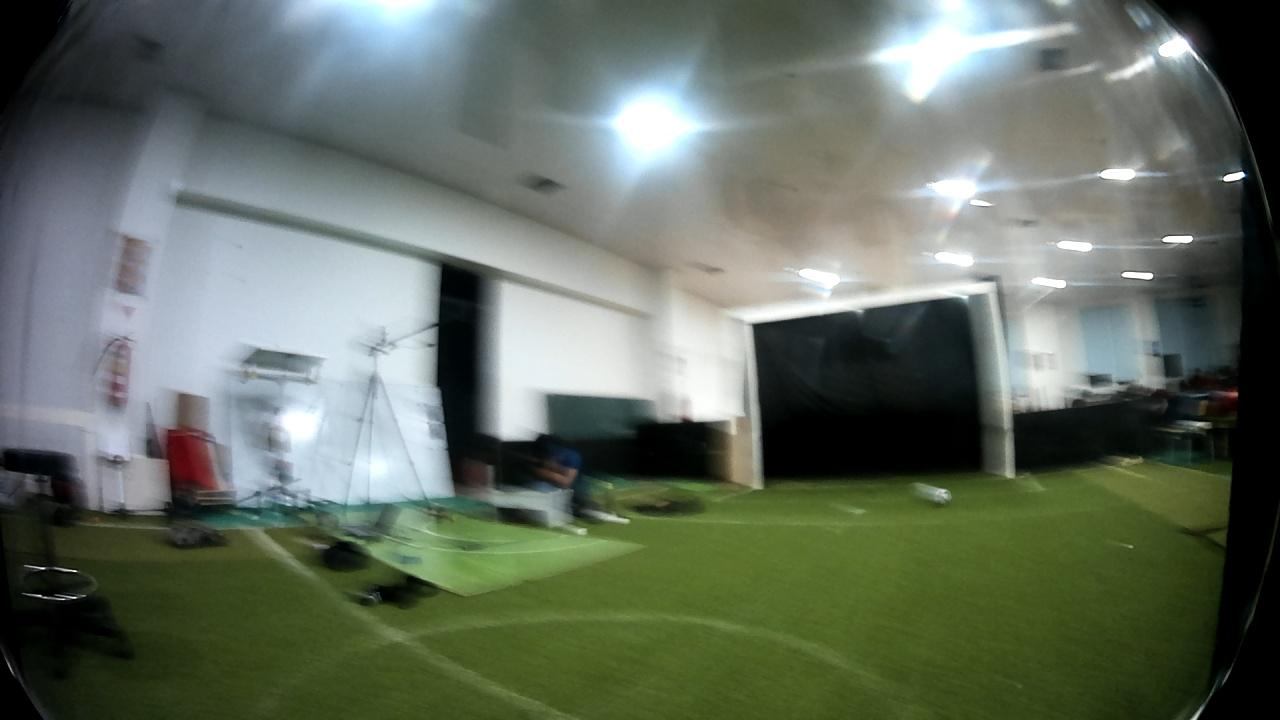ball: (930, 485, 955, 507)
